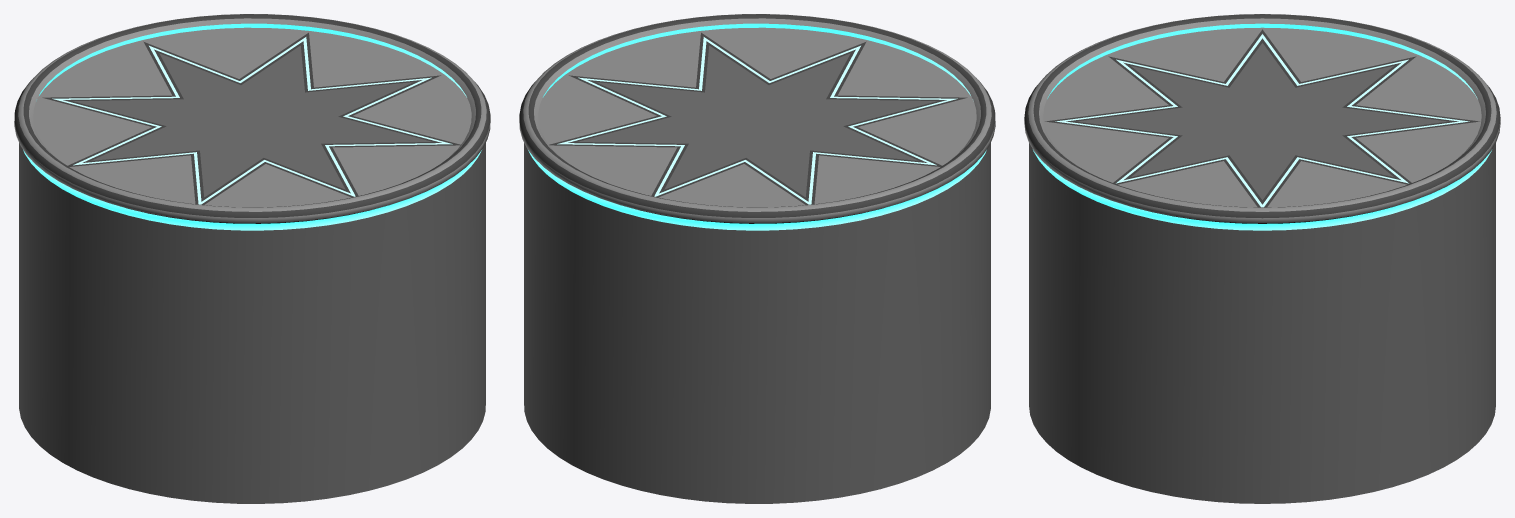
File: mesh_Menu_Cylinder.fbx
3 renders of one model, left to right at view 1: azimuth 30°, elevation 25°; view 2: azimuth 150°, elevation 25°; view 3: azimuth 270°, elevation 25°, orthographic.
Parts seen in each view (by area): view 1: mesh_Menu_Cylinder; view 2: mesh_Menu_Cylinder; view 3: mesh_Menu_Cylinder.
Boxes of the visible parts, left/top/right/bottom form: mesh_Menu_Cylinder: left=14, top=14, right=490, bottom=503; mesh_Menu_Cylinder: left=519, top=14, right=995, bottom=503; mesh_Menu_Cylinder: left=1024, top=14, right=1500, bottom=503.
Size of the model in its own units: 3.33 by 2.27 by 3.33.
